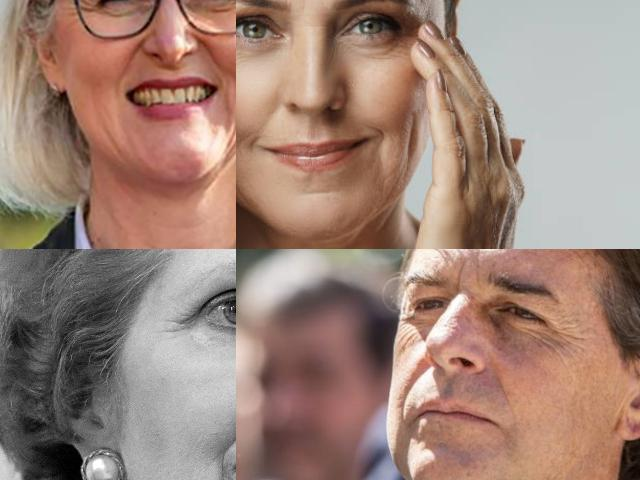chin: (298, 184, 344, 200)
crows_feet: (540, 316, 574, 358), (164, 312, 196, 340), (77, 0, 95, 16)
frown_line: (452, 260, 470, 292)
gummy_smile: (400, 370, 422, 412), (223, 409, 236, 460), (198, 36, 216, 60), (127, 40, 145, 64)
masseter: (405, 113, 419, 167), (236, 164, 246, 205), (230, 102, 236, 154)
sad_smile: (366, 124, 392, 154), (236, 129, 258, 155)
